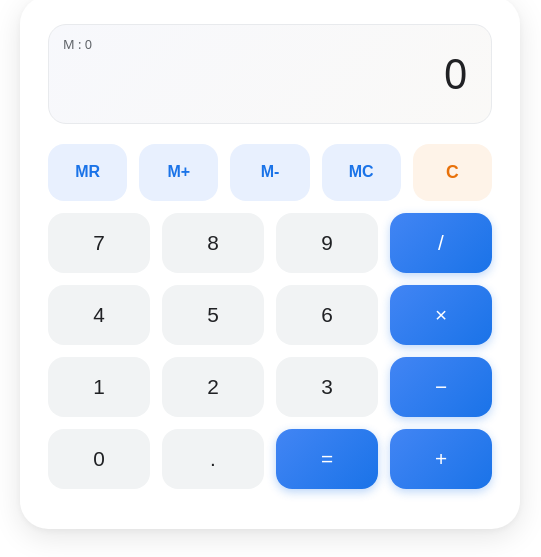
Test: Calculator › clears the display when pressing C
Click the button "9" at (327, 243), box [276,213,378,273]
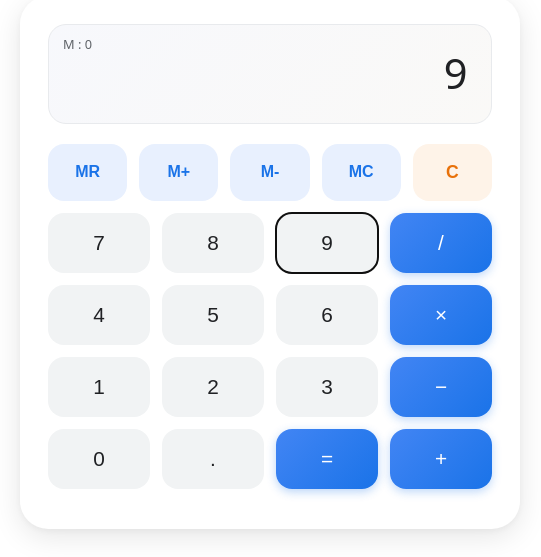
Click the button named "clear" at (452, 172), box [413,144,492,201]
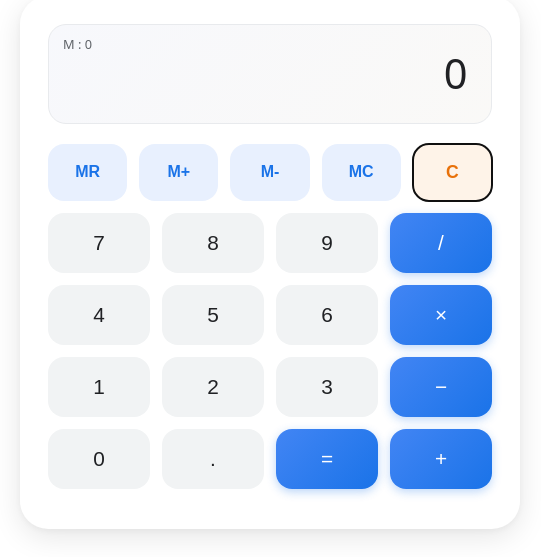
Now the text "0" is shown, box [444,49,467,99]
